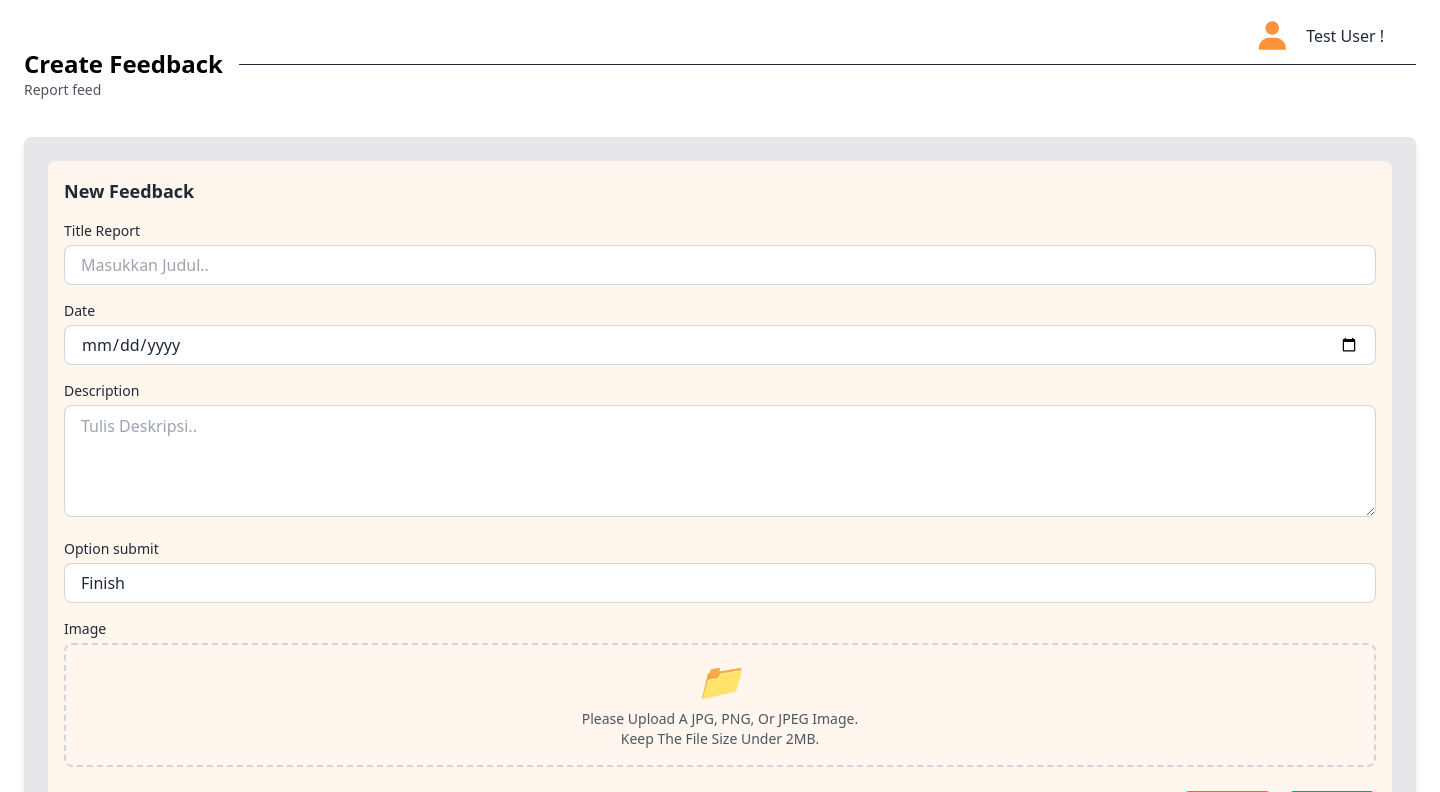
Test: CreateReport Component › should handle form submission successfully
Type "Test Title" into the field with placeholder "Masukkan Judul.." at [720, 265], box [64, 245, 1376, 285]
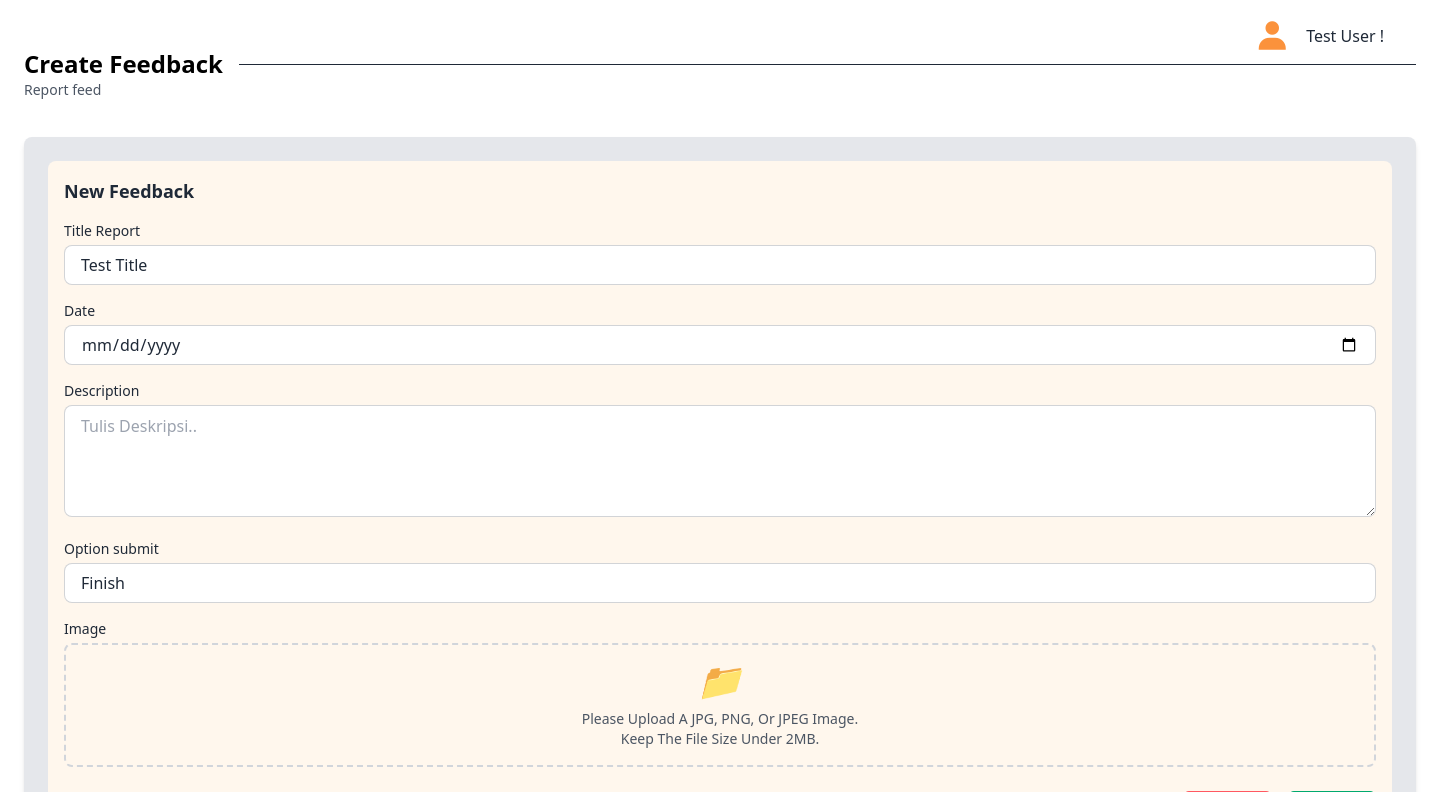
Type "2023-12-31" into the date field with placeholder "Pilih Tanggal.." at [720, 345], box [64, 325, 1376, 365]
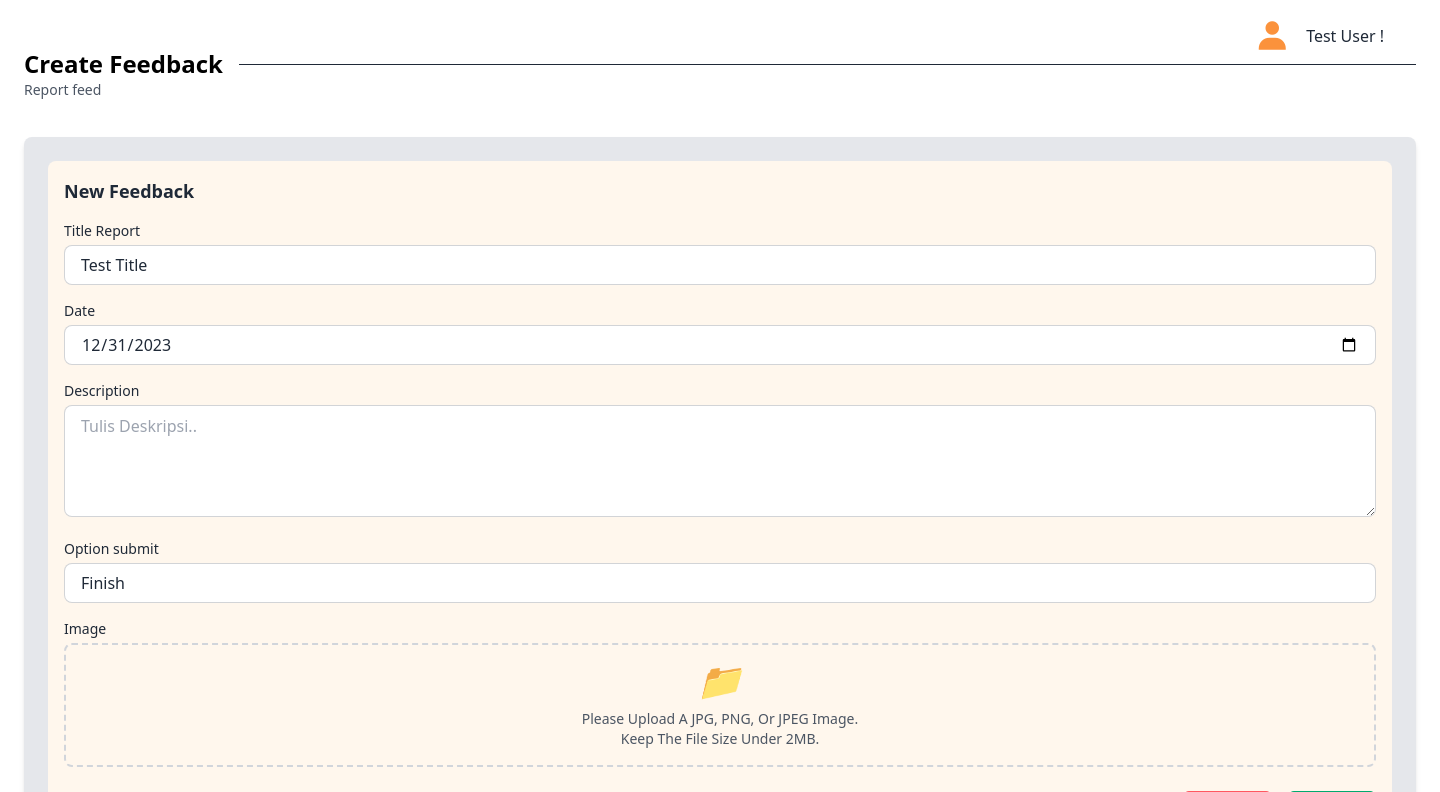
Type "This is a test description" into the text box with placeholder "Tulis Deskripsi.." at [720, 461], box [64, 405, 1376, 517]
(page scrolled)
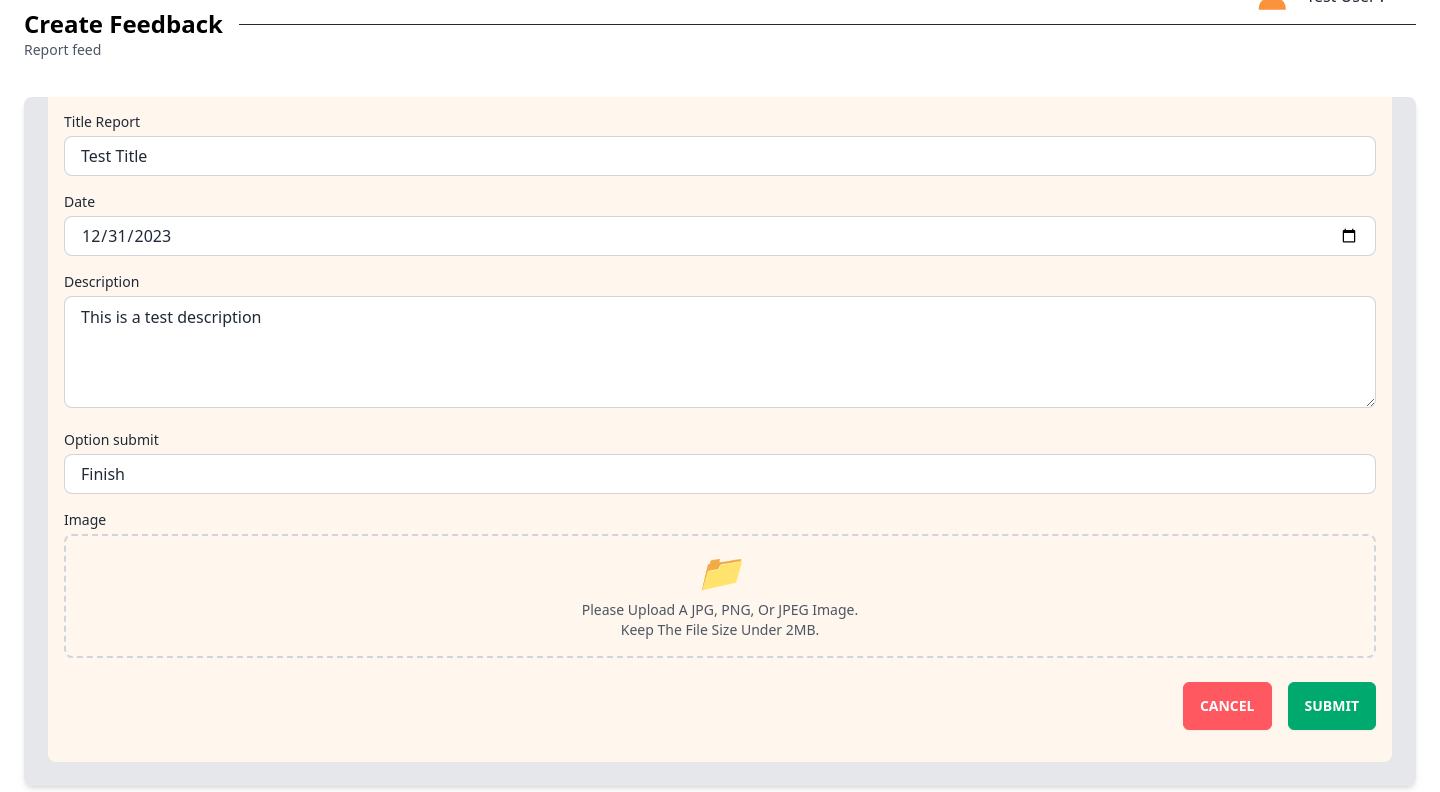
Click the button "SUBMIT" at [1332, 706], box [1288, 682, 1376, 730]
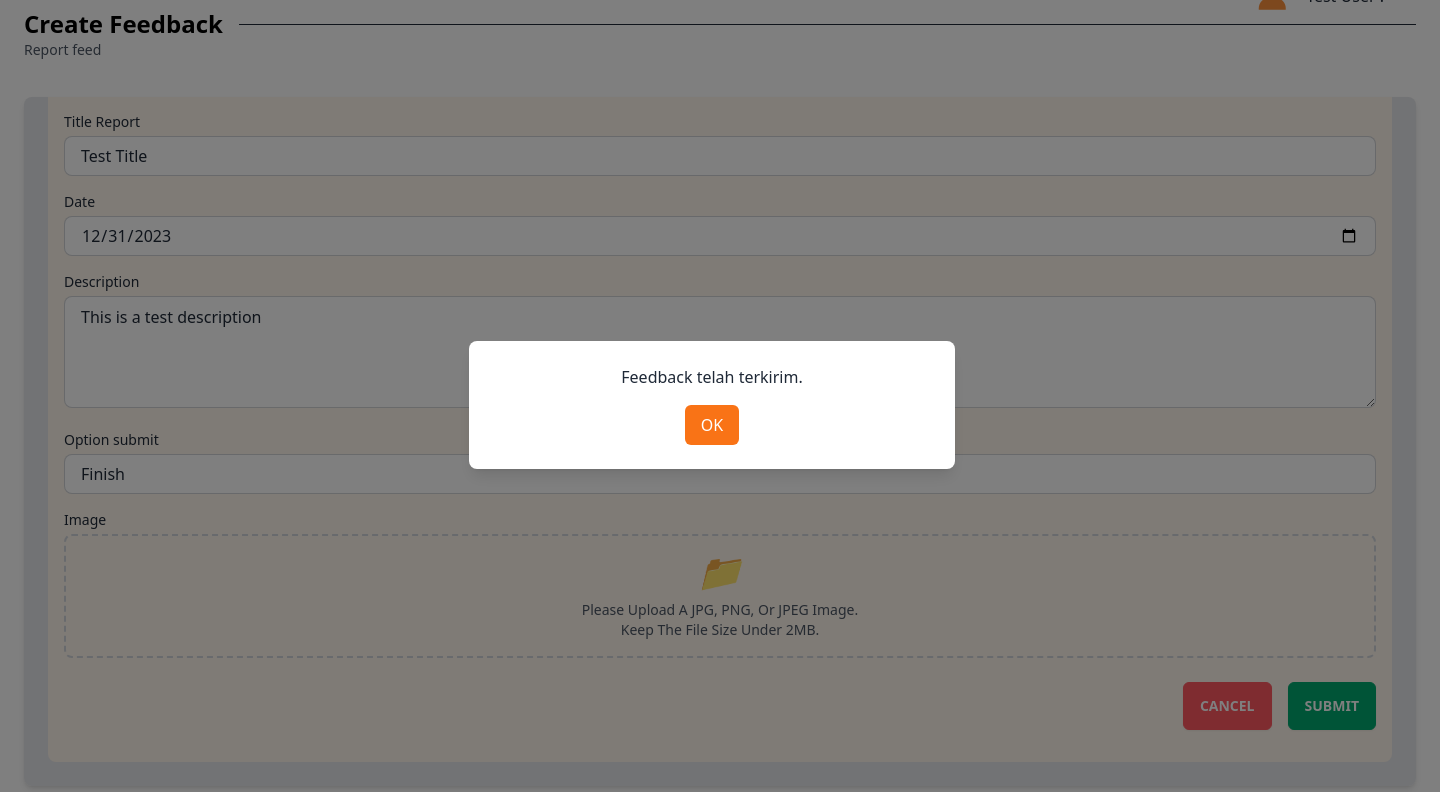
Check: the text "Feedback telah terkirim." is shown, box [621, 366, 803, 388]
